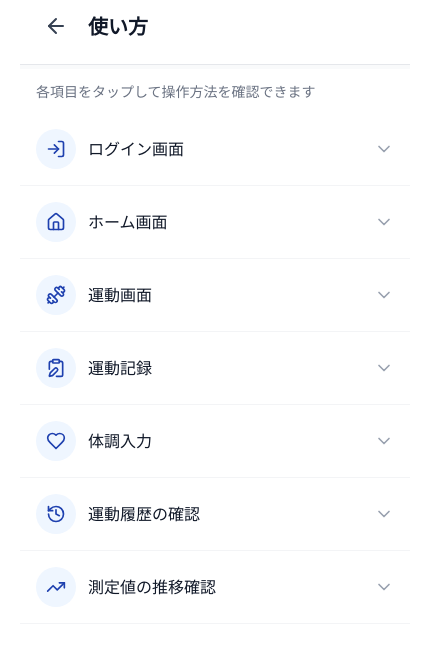
Test case: UserGuide（使い方） › accordion interaction › should show exercise record section content when expanded
What coordinates should you click on to do the following:
click the button "運動記録"
I would click on:
 (56, 368)
Its box is [20,332,410,404].
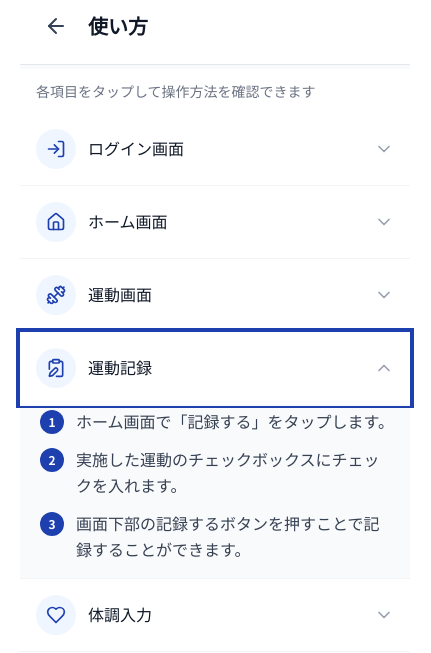
Check: the text "実施した運動のチェックボックスにチェックを入れます。" is shown, box [76,446,394,498]
